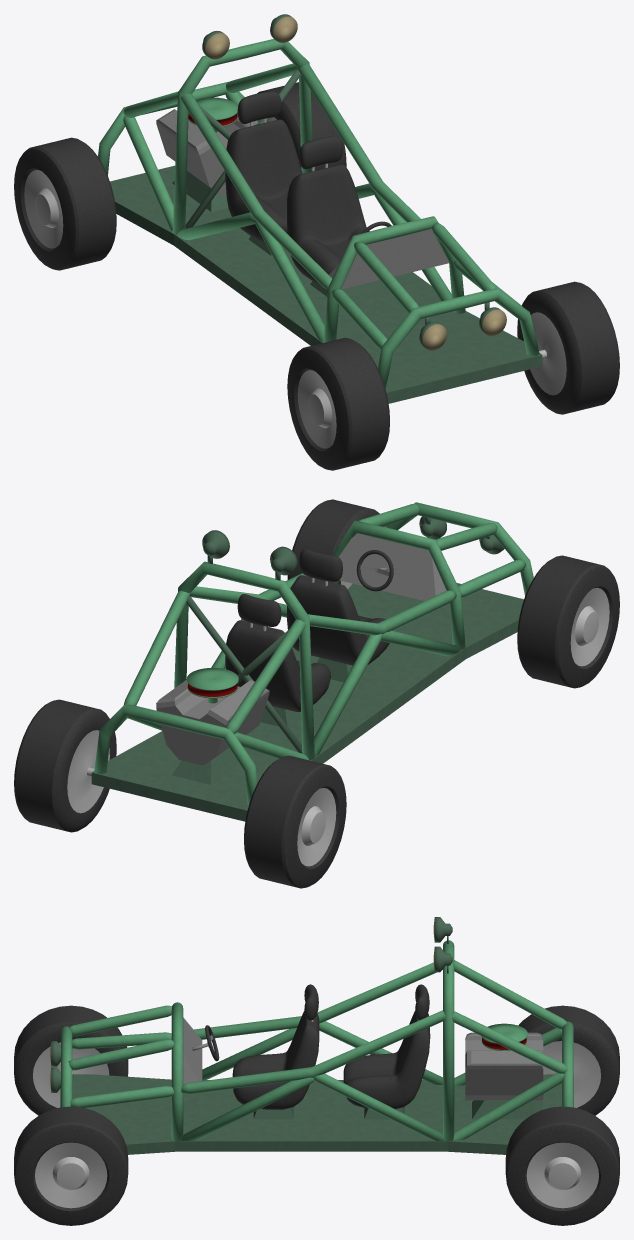
File: buggy.glb
The picture shows the model from 3 angles, top to bottom: view 1: azimuth 30°, elevation 25°; view 2: azimuth 150°, elevation 25°; view 3: azimuth 270°, elevation 25°; orthographic projection. The views are drawn at different scales.
Parts seen in each view (by area): view 1: Cylinder, Cube, Cylinder.007, Cube.002, Cube.005, Cylinder.003, Cube.001, Cylinder.001, Cylinder.002, Cube.008, Cylinder.009, Cylinder.005 (+11 smaller); view 2: Cylinder, Cube, Cylinder.007, Cylinder.003, Cube.008, Cube.001, Cube.002, Cube.005, Cylinder.004, Cylinder.002, Cylinder.008, Cylinder.001 (+12 smaller); view 3: Cylinder, Cube, Cylinder.007, Cube.005, Cube.008, Cube.002, Cylinder.009, Cylinder.005, Cylinder.008, Cylinder.006, Cylinder.003, Cylinder.010 (+11 smaller).
Boxes of the visible parts, x1,y1,x2,y2 form: Cylinder: (14,82,619,470); Cube: (110,165,542,403); Cylinder.007: (123,63,420,289); Cube.002: (286,164,369,285); Cube.005: (225,119,302,241); Cylinder.003: (172,39,312,234); Cube.001: (329,229,449,289); Cylinder.001: (377,288,539,388); Cylinder.002: (323,216,465,342); Cube.008: (156,109,257,195); Cylinder.009: (255,191,451,341); Cylinder.005: (354,222,496,313); Cylinder: (14,499,619,888); Cube: (91,583,523,821); Cylinder.007: (124,573,456,733); Cylinder.003: (174,561,314,759); Cube.008: (156,679,269,765); Cube.001: (339,533,446,600); Cube.002: (287,575,389,665); Cube.005: (225,620,330,711); Cylinder.004: (94,704,257,807); Cylinder.002: (330,520,465,649); Cylinder.008: (211,619,382,756); Cylinder.001: (382,502,533,595); Cylinder: (14,1005,619,1225); Cube: (60,1074,573,1154); Cylinder.007: (181,960,567,1093); Cube.005: (343,1011,430,1109); Cube.008: (465,1032,543,1100); Cube.002: (232,1011,319,1109); Cylinder.009: (181,1028,314,1140); Cylinder.005: (68,1005,173,1070); Cylinder.008: (313,1021,444,1140); Cylinder.006: (70,1032,173,1107); Cylinder.003: (443,940,454,1141); Cylinder.010: (453,1028,563,1140).
Size of the model in its own units: 7.92 by 7.13 by 16.71.
7 materials, 7 textured.
